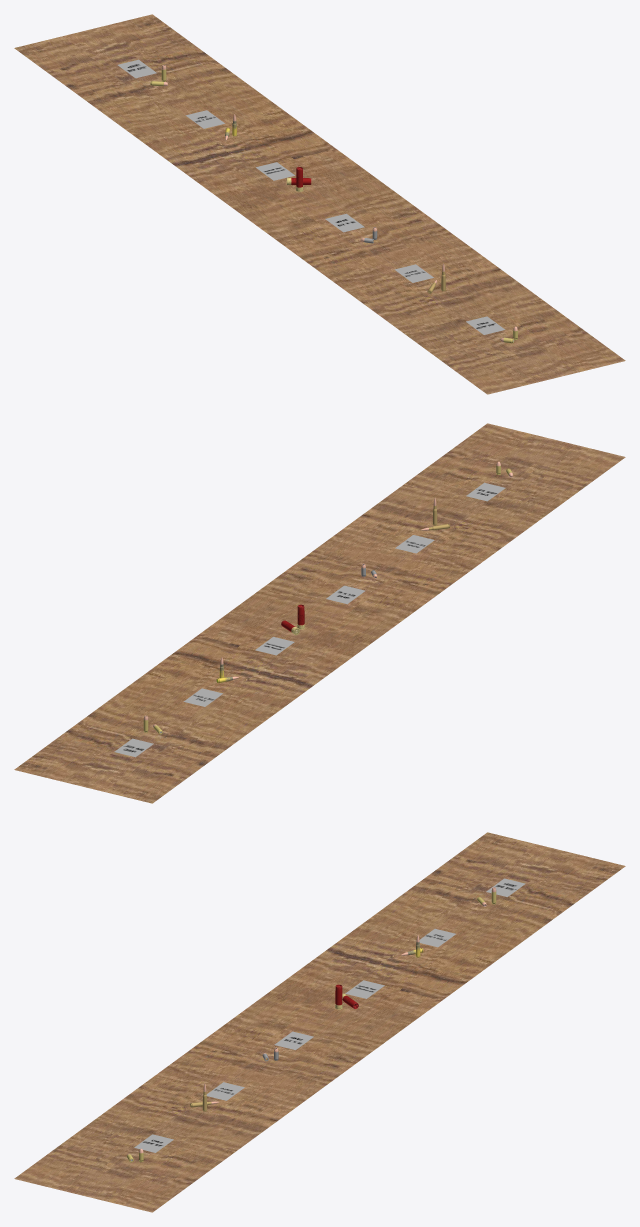
File: ammoline.glb
The picture shows the model from 3 angles, top to bottom: view 1: azimuth 30°, elevation 25°; view 2: azimuth 150°, elevation 25°; view 3: azimuth 330°, elevation 25°; orthographic projection.
Visible parts, largest first — view 1: Plane.001, Plane; view 2: Plane.001, Plane; view 3: Plane.001, Plane.
Boxes of the visible parts, x1,y1,x2,y2 form: Plane.001: [14, 14, 625, 394]; Plane: [117, 59, 505, 334]; Plane.001: [14, 423, 625, 803]; Plane: [114, 482, 505, 757]; Plane.001: [14, 832, 625, 1212]; Plane: [134, 878, 525, 1152].
Bounding box in the file's own units: 45.57 × 8.65 × 270.
Materials: 8 (8 with a texture image).
